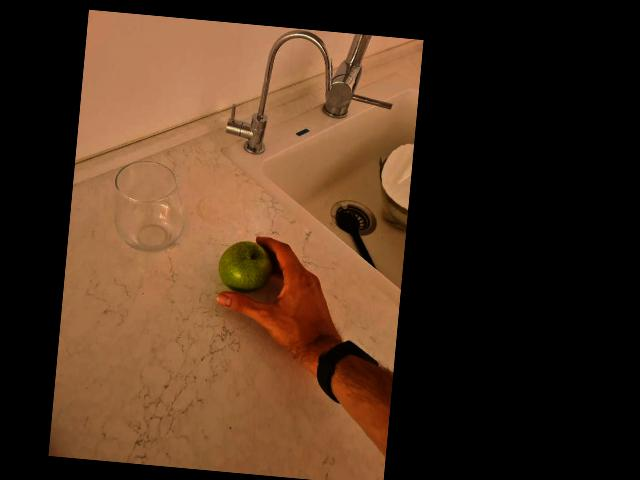apple: (214, 241, 280, 296)
